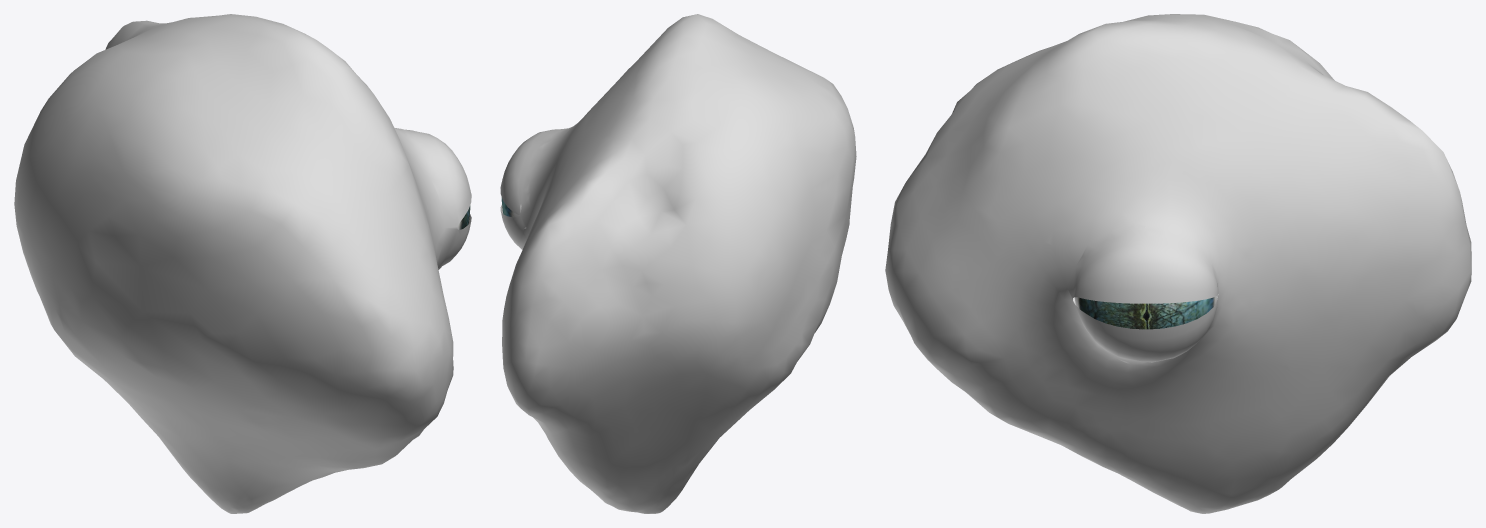
File: eye.fbx
3 views of the same model, side by side, from view 1: azimuth 30°, elevation 25°; view 2: azimuth 150°, elevation 25°; view 3: azimuth 270°, elevation 25° (orthographic). The views are drawn at different scales.
Visible parts, largest first — view 1: Sphere; view 2: Sphere; view 3: Sphere, Sphere.001.
Part boxes in pixels (x1,y1,x2,y2): Sphere: [14, 14, 471, 513]; Sphere: [500, 14, 856, 513]; Sphere: [885, 14, 1471, 513]; Sphere.001: [1074, 295, 1217, 329].
Bounding box in the file's own units: 761 × 1020 × 1110.
